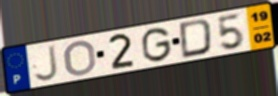2: (107, 33, 135, 71)
5: (216, 11, 246, 51)
D: (178, 18, 214, 60)
G: (141, 26, 173, 64)
J: (33, 43, 60, 83)
O: (63, 39, 99, 77)
